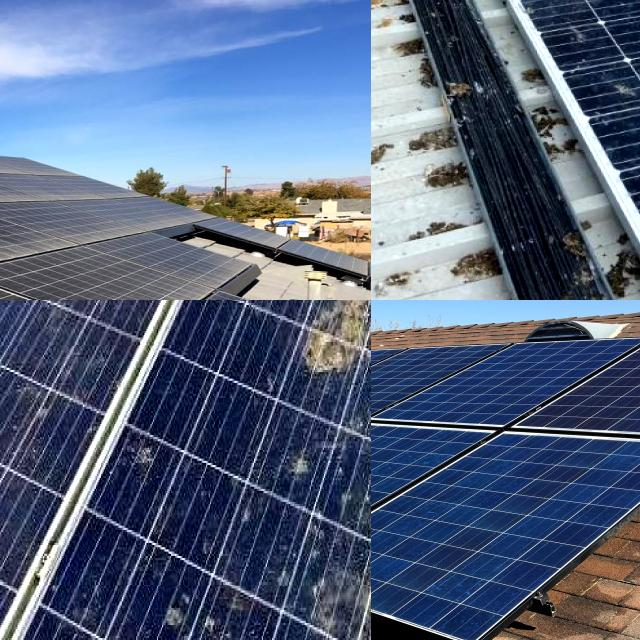bird: (300, 300, 371, 387), (314, 539, 371, 640), (162, 589, 216, 640), (128, 436, 168, 486), (103, 300, 147, 328), (280, 300, 314, 330)
